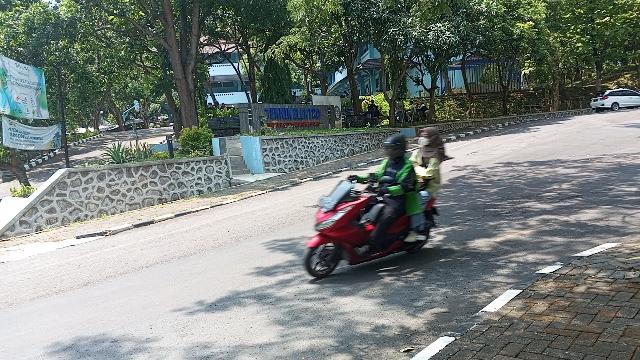helm: (382, 134, 408, 161)
motor: (304, 161, 443, 280)
non-helm: (418, 127, 442, 151)
